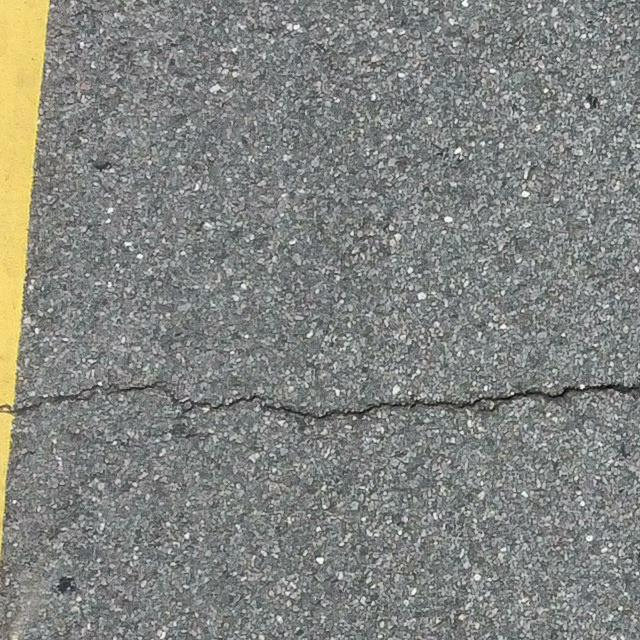TransverseCrack: (1, 380, 640, 420)
